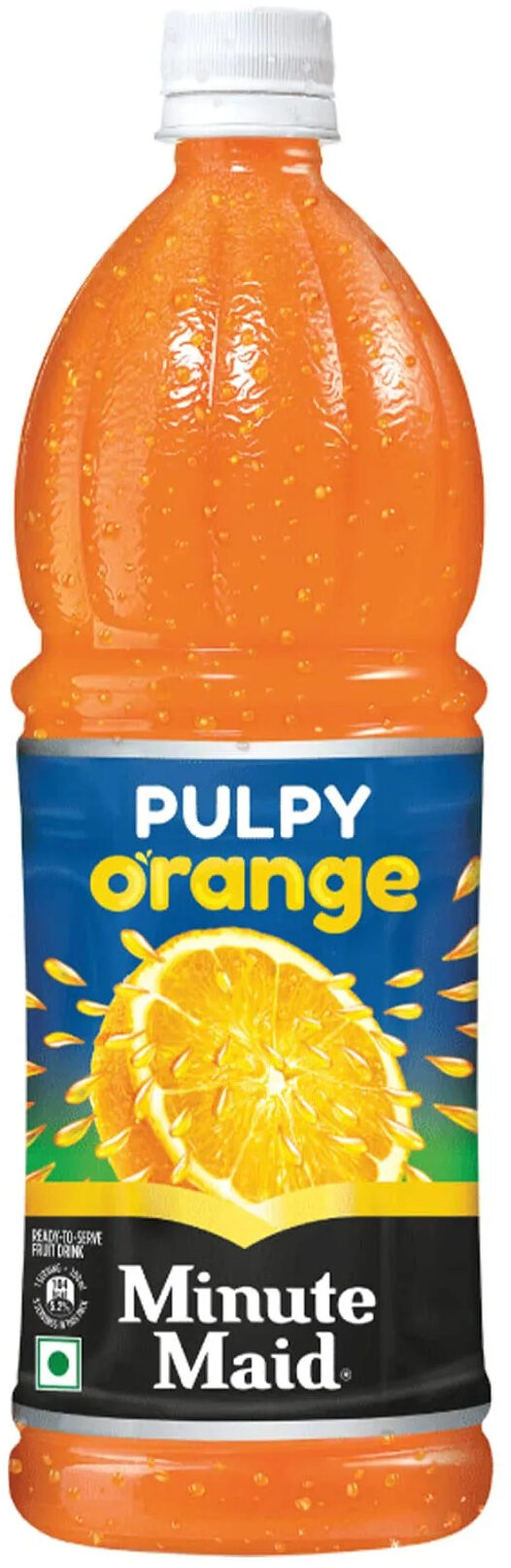Pulpy Orange: (46, 141, 465, 1427)
